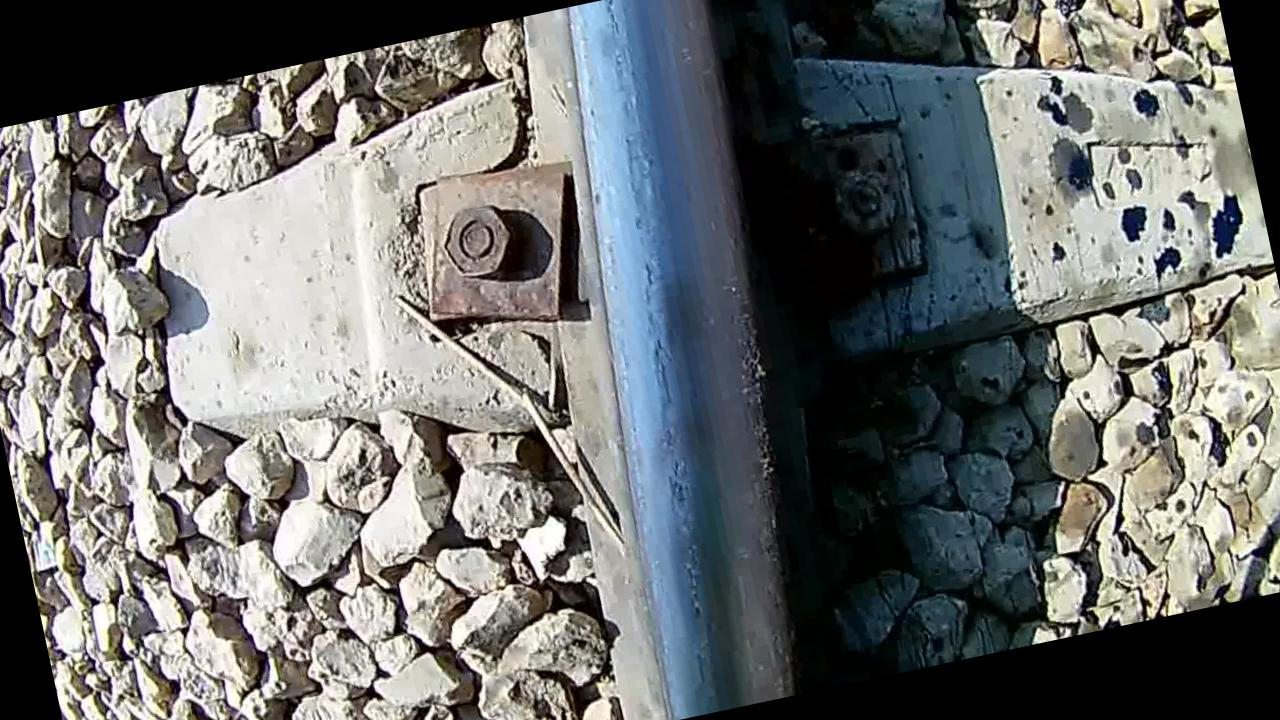crack: (540, 0, 843, 718)
